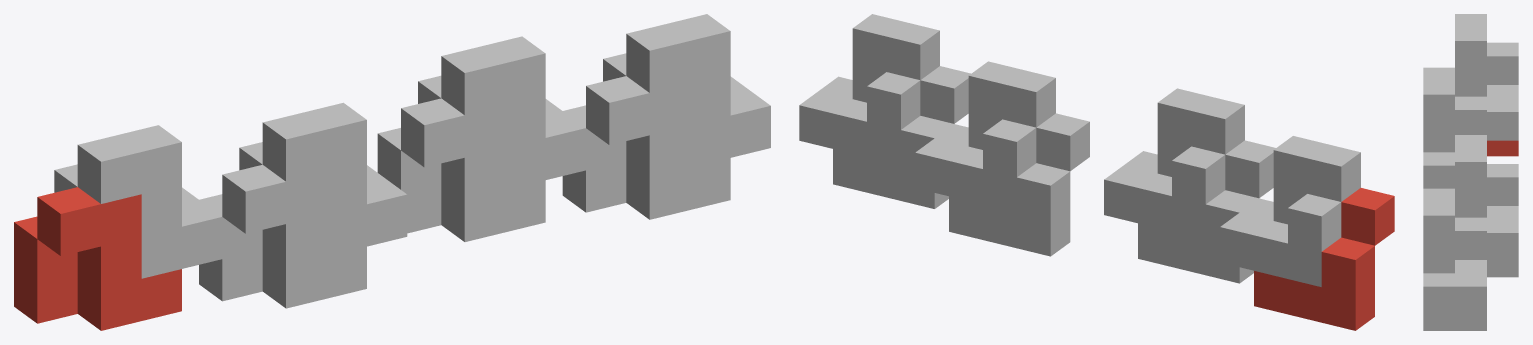
Rendered from tiling.obj.
3 renders of one model, left to right at view 1: azimuth 30°, elevation 25°; view 2: azimuth 150°, elevation 25°; view 3: azimuth 270°, elevation 25°, orthographic. The views are drawn at different scales.
Parts seen in each view (by area): view 1: copy_1_domain_1, copy_1_domain_2, copy_1_domain_5, copy_1_domain_6, copy_1_domain_3, copy_1_domain_4, copy_1_domain_7, copy_1_domain_8; view 2: copy_1_domain_3, copy_1_domain_4, copy_1_domain_8, copy_1_domain_7, copy_1_domain_5, copy_1_domain_1, copy_1_domain_6, copy_1_domain_2; view 3: copy_1_domain_8, copy_1_domain_3, copy_1_domain_7, copy_1_domain_4, copy_1_domain_6, copy_1_domain_1, copy_1_domain_5.
Boxes of the visible parts, x1,y1,x2,y2 form: copy_1_domain_1: [14, 187, 181, 330]; copy_1_domain_2: [199, 164, 366, 308]; copy_1_domain_5: [377, 98, 545, 241]; copy_1_domain_6: [562, 76, 730, 219]; copy_1_domain_3: [54, 125, 222, 278]; copy_1_domain_4: [239, 102, 407, 256]; copy_1_domain_7: [418, 36, 585, 189]; copy_1_domain_8: [603, 14, 770, 167]; copy_1_domain_3: [1220, 136, 1360, 286]; copy_1_domain_4: [1104, 88, 1244, 239]; copy_1_domain_8: [799, 14, 939, 165]; copy_1_domain_7: [915, 61, 1055, 212]; copy_1_domain_5: [949, 113, 1089, 256]; copy_1_domain_1: [1254, 188, 1394, 330]; copy_1_domain_6: [833, 66, 970, 208]; copy_1_domain_2: [1138, 140, 1275, 283]; copy_1_domain_8: [1423, 188, 1486, 315]; copy_1_domain_3: [1455, 14, 1518, 140]; copy_1_domain_7: [1455, 135, 1518, 261]; copy_1_domain_4: [1423, 67, 1486, 188]; copy_1_domain_6: [1423, 315, 1486, 330]; copy_1_domain_1: [1487, 140, 1518, 156]; copy_1_domain_5: [1487, 262, 1518, 277].
Bounding box in the file's own units: 17 × 4 × 3.
